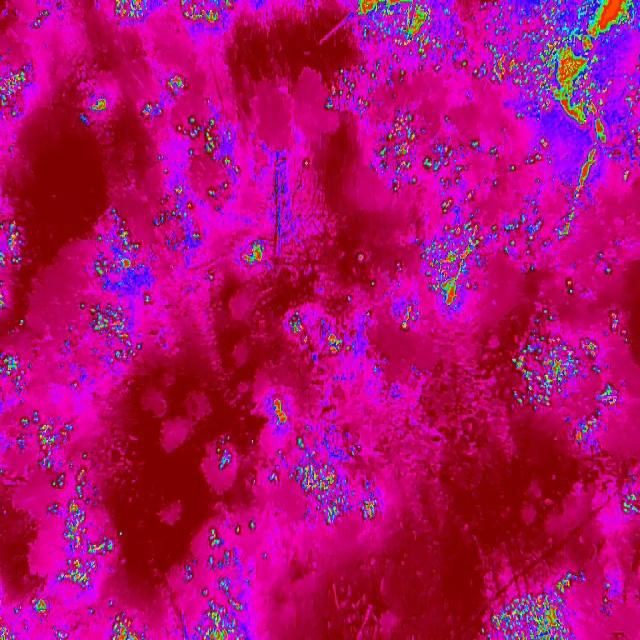fire: (0, 219, 146, 640), (175, 392, 397, 640), (77, 58, 236, 368), (366, 117, 548, 338), (513, 247, 640, 458), (475, 0, 640, 144), (324, 0, 474, 119), (550, 140, 632, 242), (482, 567, 593, 640), (0, 63, 37, 119), (176, 0, 236, 29), (112, 0, 157, 25), (245, 234, 267, 271), (618, 493, 640, 519), (28, 10, 52, 32), (286, 312, 306, 336), (328, 331, 346, 353)
